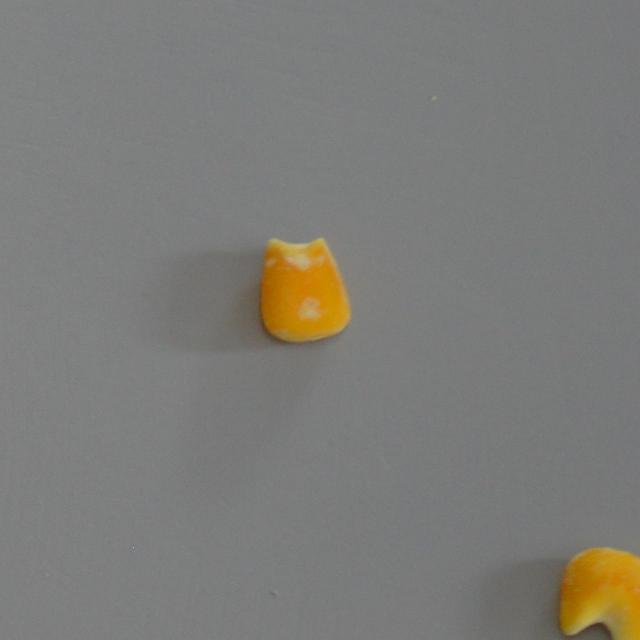no_canjicado: (558, 546, 640, 640)
pelicula: (260, 236, 352, 346)
